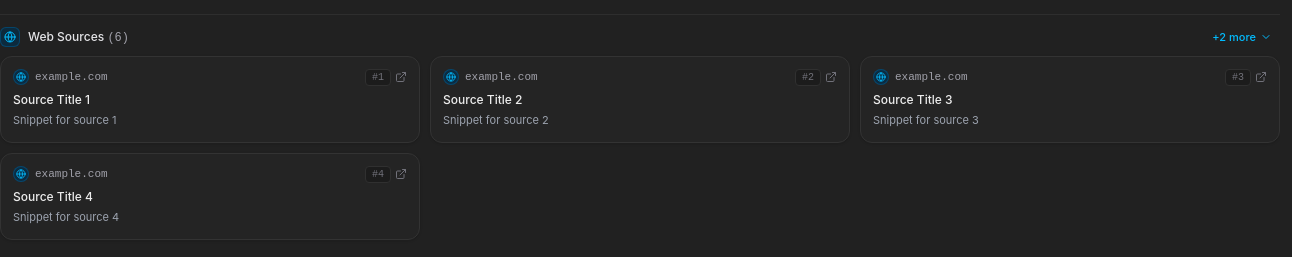
Test: WebSourceCard & WebSourceGrid › renders grid with multiple sources and expand toggle
Expected: the text "Web Sources (6)" is shown, [28, 29, 129, 46]
Expected: the text "(6)" is shown, [107, 31, 129, 45]
Click the button "+2 more".
click(1242, 37)  # box [1204, 27, 1280, 48]
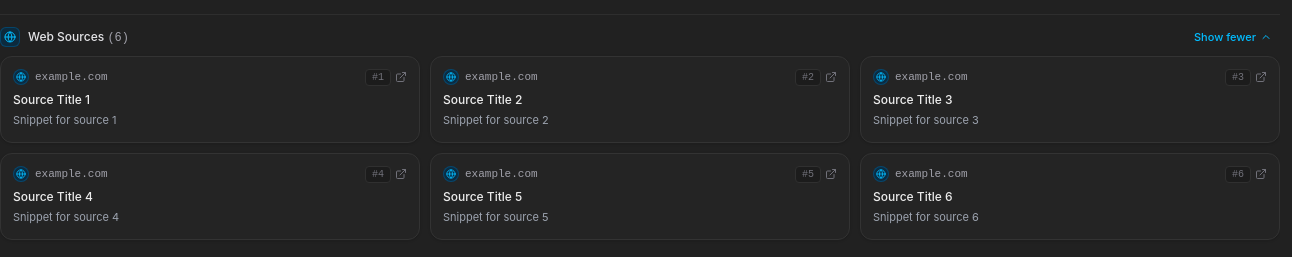
Now the text "Show fewer" is shown, box [1194, 29, 1256, 46]
